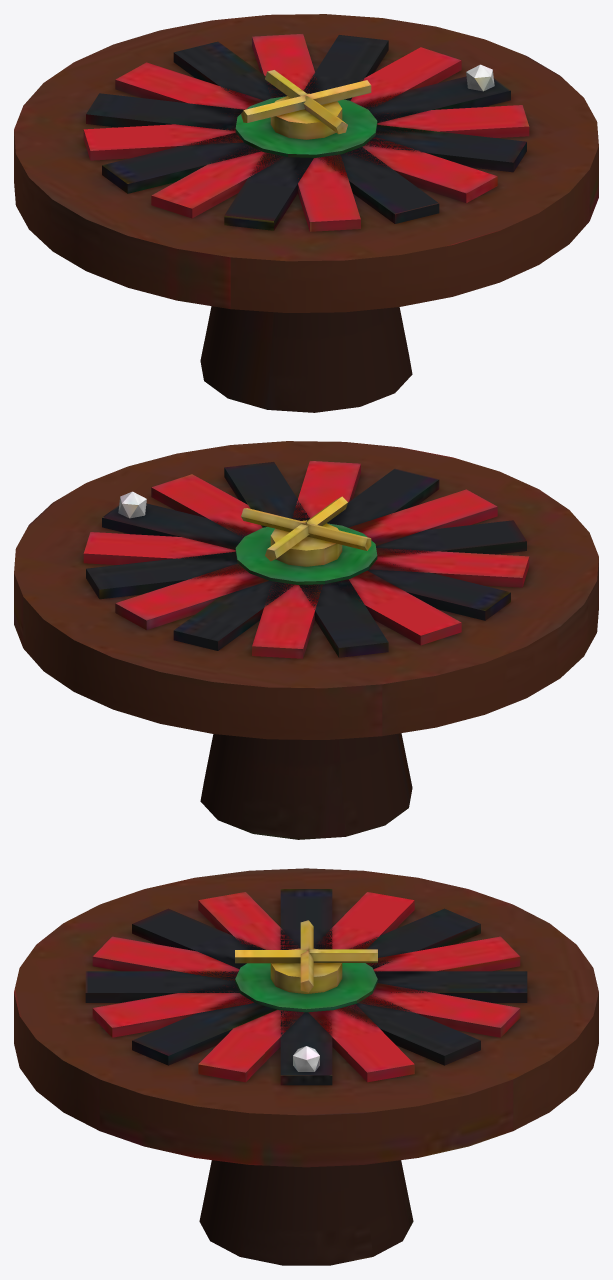
The model's file is ruleta.glb.
3 views of the same model, one above another, from view 1: azimuth 30°, elevation 25°; view 2: azimuth 150°, elevation 25°; view 3: azimuth 270°, elevation 25° (orthographic).
Parts seen in each view (by area): view 1: ruleta; view 2: ruleta; view 3: ruleta.
Part boxes in pixels (x1,y1,x2,y2): ruleta: (14, 14, 598, 412); ruleta: (14, 441, 598, 839); ruleta: (14, 868, 598, 1265).
Size of the model in its own units: 1.64 by 0.84 by 1.64.
1 material, 1 textured.
